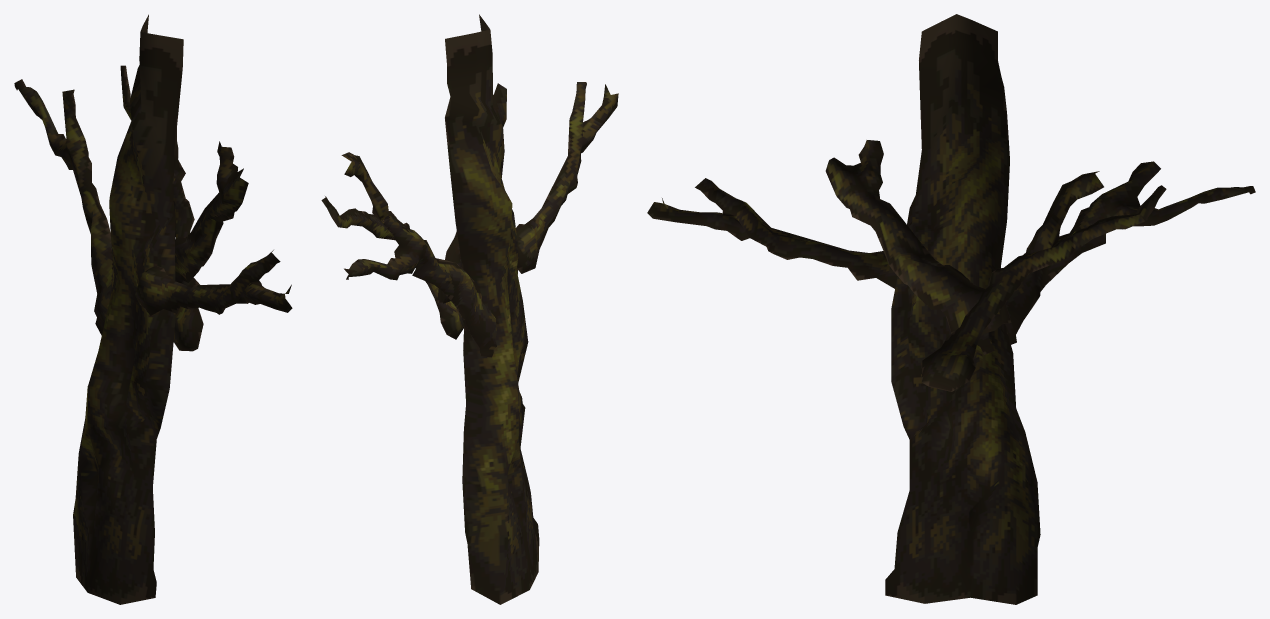
Rendered from EnvFldMD_Tree_G_Treehouse_Indoor_B.FBX.
3 views of the same model, side by side, from view 1: azimuth 30°, elevation 25°; view 2: azimuth 150°, elevation 25°; view 3: azimuth 270°, elevation 25° (orthographic). The views are drawn at different scales.
Parts seen in each view (by area): view 1: EnvFldMD_Tree_G_Treehouse_Indoor_B; view 2: EnvFldMD_Tree_G_Treehouse_Indoor_B; view 3: EnvFldMD_Tree_G_Treehouse_Indoor_B.
Boxes of the visible parts, left/top/right/bottom form: EnvFldMD_Tree_G_Treehouse_Indoor_B: left=14, top=14, right=292, bottom=604; EnvFldMD_Tree_G_Treehouse_Indoor_B: left=321, top=14, right=618, bottom=604; EnvFldMD_Tree_G_Treehouse_Indoor_B: left=647, top=14, right=1255, bottom=604.
Bounding box in the file's own units: 277 × 1107 × 1000.
Materials: 1 (1 with a texture image).
